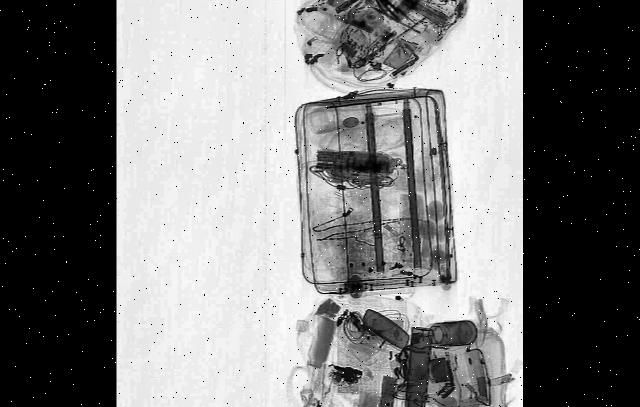Pliers: (366, 0, 409, 28)
